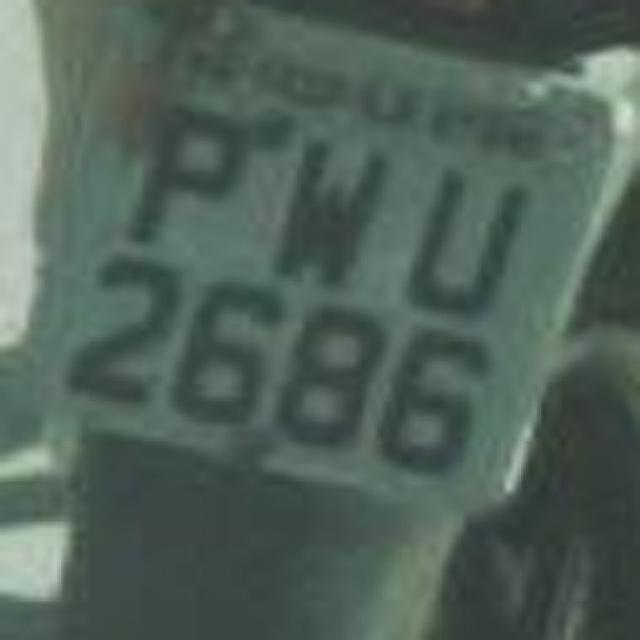2: (40, 236, 195, 416)
6: (364, 309, 504, 496), (152, 256, 296, 436)
8: (260, 284, 395, 464)
P: (120, 88, 265, 264)
U: (389, 152, 536, 332)
W: (264, 116, 404, 292)
